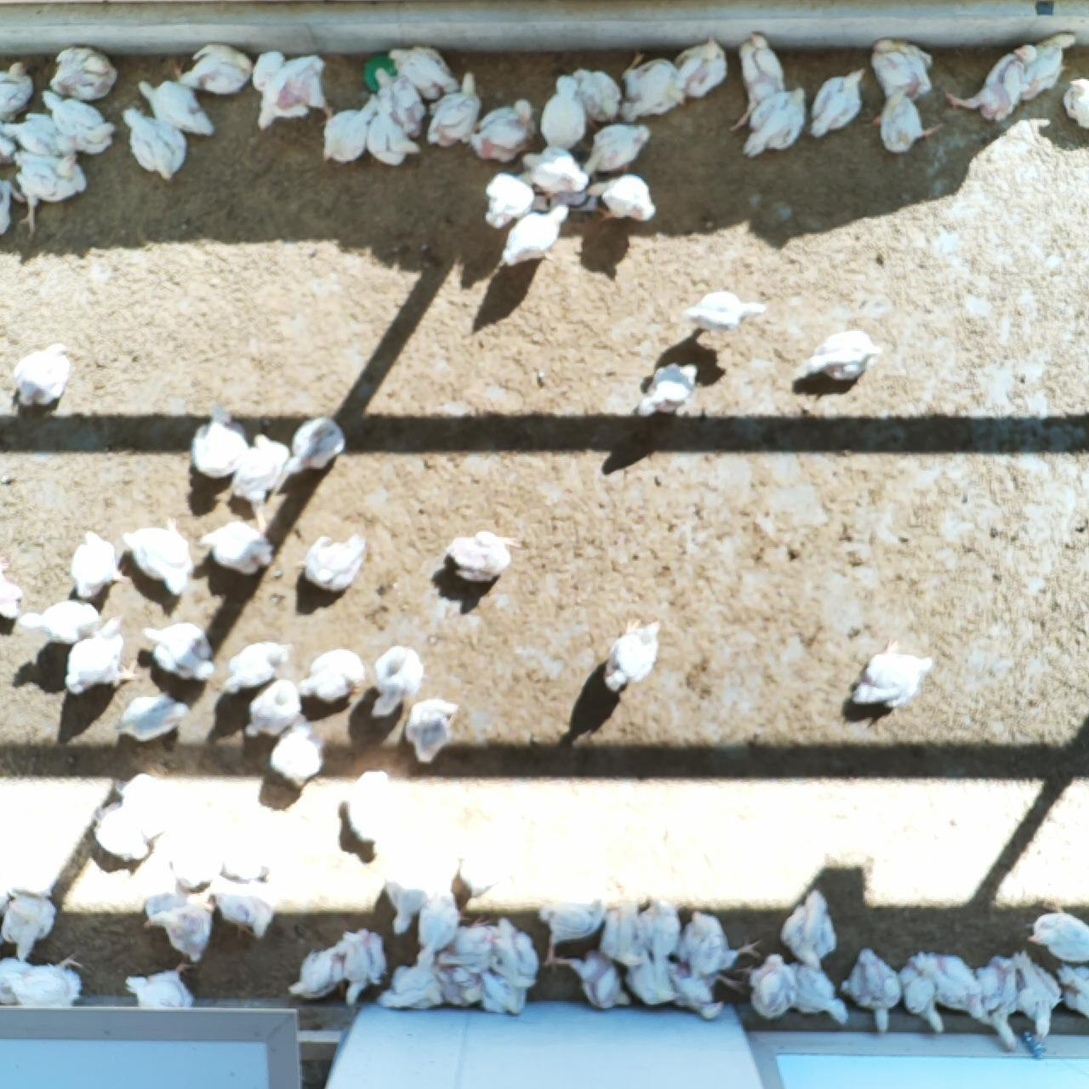chicken: (955, 44, 1037, 133), (121, 515, 206, 600), (590, 612, 669, 700), (437, 527, 533, 597), (842, 646, 936, 717), (800, 64, 877, 145), (798, 322, 887, 391), (743, 77, 817, 155), (254, 59, 335, 130), (485, 202, 568, 271), (609, 52, 683, 128), (633, 353, 705, 429), (672, 905, 742, 981), (868, 40, 949, 104), (846, 945, 904, 1034), (125, 106, 192, 180), (730, 32, 784, 123), (67, 617, 128, 697), (583, 173, 669, 229), (214, 637, 294, 697), (576, 123, 660, 180), (111, 694, 192, 753), (465, 100, 544, 160), (685, 286, 772, 340), (143, 624, 224, 682), (919, 953, 985, 1024), (367, 642, 427, 720), (6, 150, 88, 207), (528, 73, 590, 148), (199, 522, 276, 582), (542, 894, 608, 963), (13, 342, 75, 415), (979, 946, 1022, 1051), (230, 433, 290, 508), (194, 407, 252, 484), (137, 82, 222, 134), (519, 133, 588, 197), (1017, 32, 1075, 107), (0, 885, 57, 961), (426, 72, 482, 149), (460, 166, 533, 225), (287, 412, 349, 481), (302, 532, 373, 592), (563, 950, 630, 1013), (240, 677, 301, 745), (45, 93, 115, 152), (67, 529, 121, 605), (302, 647, 368, 709), (347, 767, 396, 850), (782, 892, 837, 965), (15, 951, 83, 1010), (0, 110, 76, 162), (16, 598, 100, 645), (668, 954, 725, 1023), (787, 963, 846, 1029), (882, 81, 932, 158), (564, 63, 621, 130), (386, 43, 459, 95), (120, 775, 176, 842), (740, 954, 797, 1019), (672, 37, 726, 105), (159, 897, 219, 958), (367, 70, 429, 128), (1026, 906, 1089, 962), (341, 927, 384, 1008), (0, 51, 49, 122), (183, 47, 254, 96), (407, 697, 458, 765), (1020, 952, 1057, 1044), (414, 890, 460, 963), (901, 960, 945, 1036), (214, 889, 279, 940), (319, 106, 377, 163), (90, 807, 152, 860), (494, 917, 539, 990), (127, 964, 197, 1010), (292, 945, 348, 1002), (274, 729, 330, 784), (456, 847, 511, 903), (379, 962, 440, 1012), (384, 864, 426, 935), (170, 834, 222, 891), (370, 108, 418, 167), (604, 905, 646, 969), (434, 956, 487, 1006), (48, 46, 114, 85), (218, 830, 264, 884), (641, 896, 681, 956), (631, 956, 675, 1004), (482, 970, 529, 1014), (1059, 69, 1089, 134), (60, 70, 118, 102), (1059, 960, 1089, 1020), (0, 174, 26, 242), (460, 921, 498, 966), (0, 564, 26, 625), (0, 958, 30, 1005), (0, 133, 26, 168)
